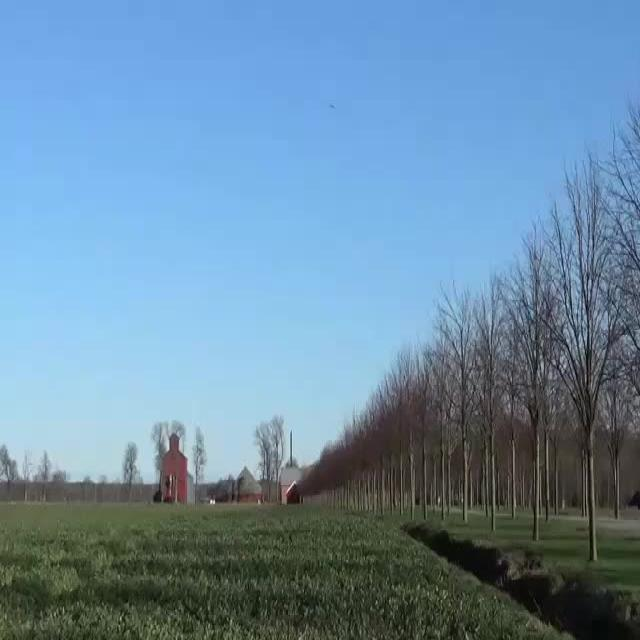bird: (322, 98, 340, 112)
